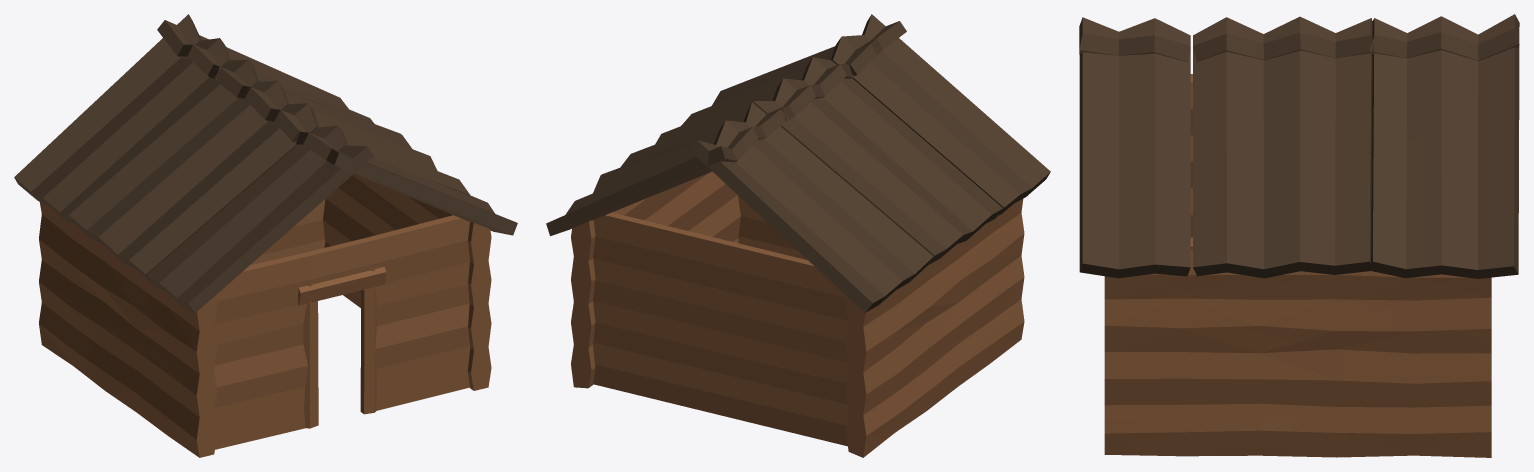
File: shack.glb
The picture shows the model from 3 angles, left to right: view 1: azimuth 30°, elevation 25°; view 2: azimuth 150°, elevation 25°; view 3: azimuth 270°, elevation 25°; orthographic projection. The views are drawn at different scales.
Visible parts, largest first — view 1: shack; view 2: shack; view 3: shack.
Boxes of the visible parts, box(x1,y1,x2,y2) form: shack: box(14, 14, 517, 457); shack: box(546, 14, 1050, 457); shack: box(1079, 14, 1519, 457).
Bounding box in the file's own units: 5.61 × 4.61 × 5.25.
1 material, 1 textured.
